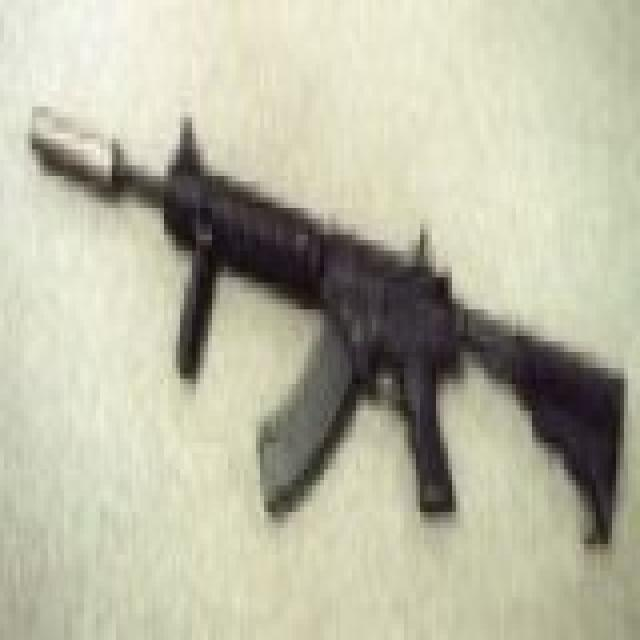Gun: (27, 68, 626, 560)
